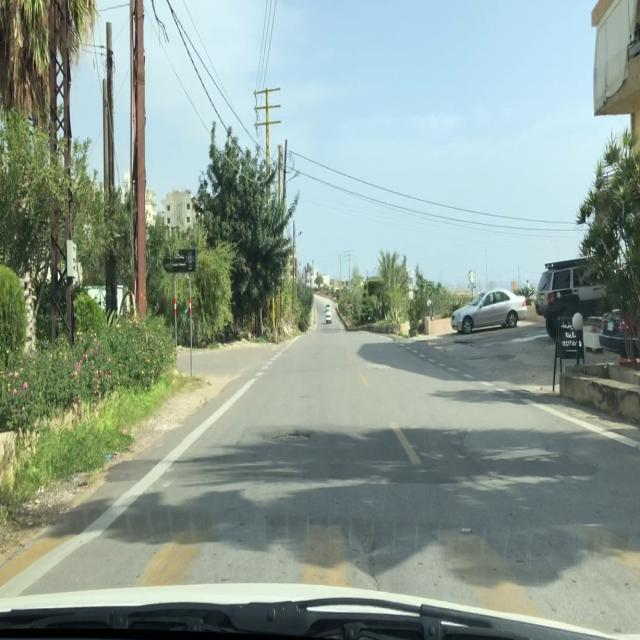pothole: (267, 427, 312, 448)
